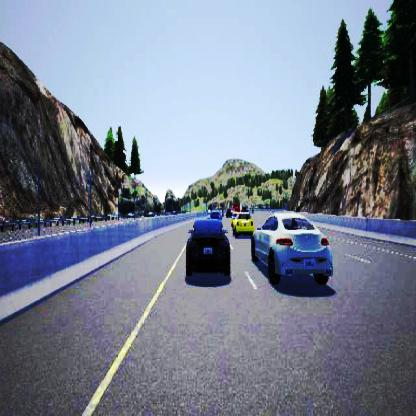vehicle: (251, 204, 332, 288), (186, 210, 230, 275), (232, 209, 254, 238)
